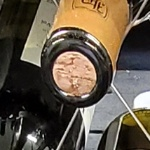bottle: (33, 27, 124, 119)
